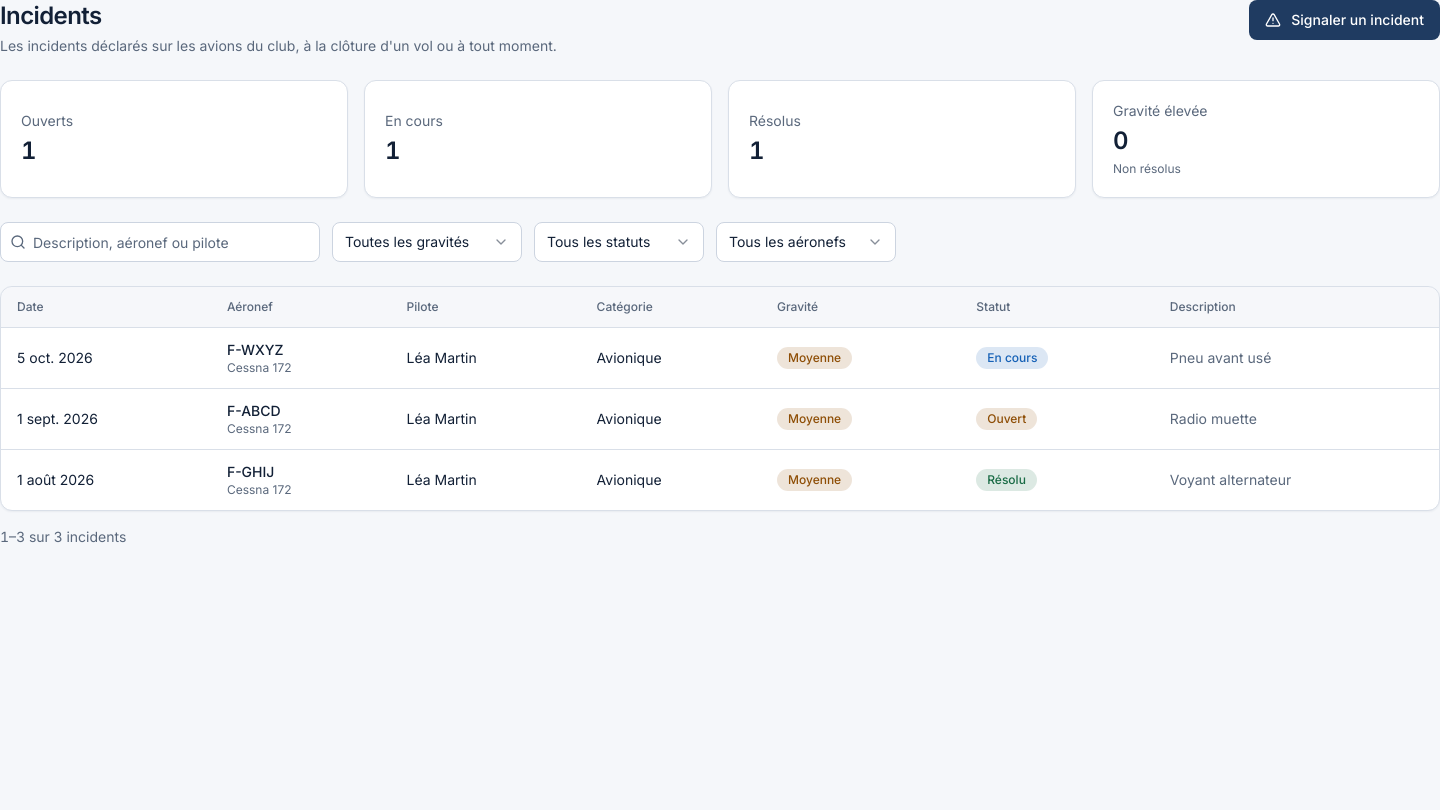
Test case: Incidents de la flotte › montre à un pilote tous les incidents, le plus récent en premier, sans action de suivi
Expected: the heading "Incidents" is shown, [0, 1, 102, 30]
Expected: the text "F-WXYZ" is shown, [227, 340, 284, 358]
Click the row named "Incident du 5 oct. 2026 sur F-WXYZ : voir le détail": (720, 358) [1, 327, 1439, 388]
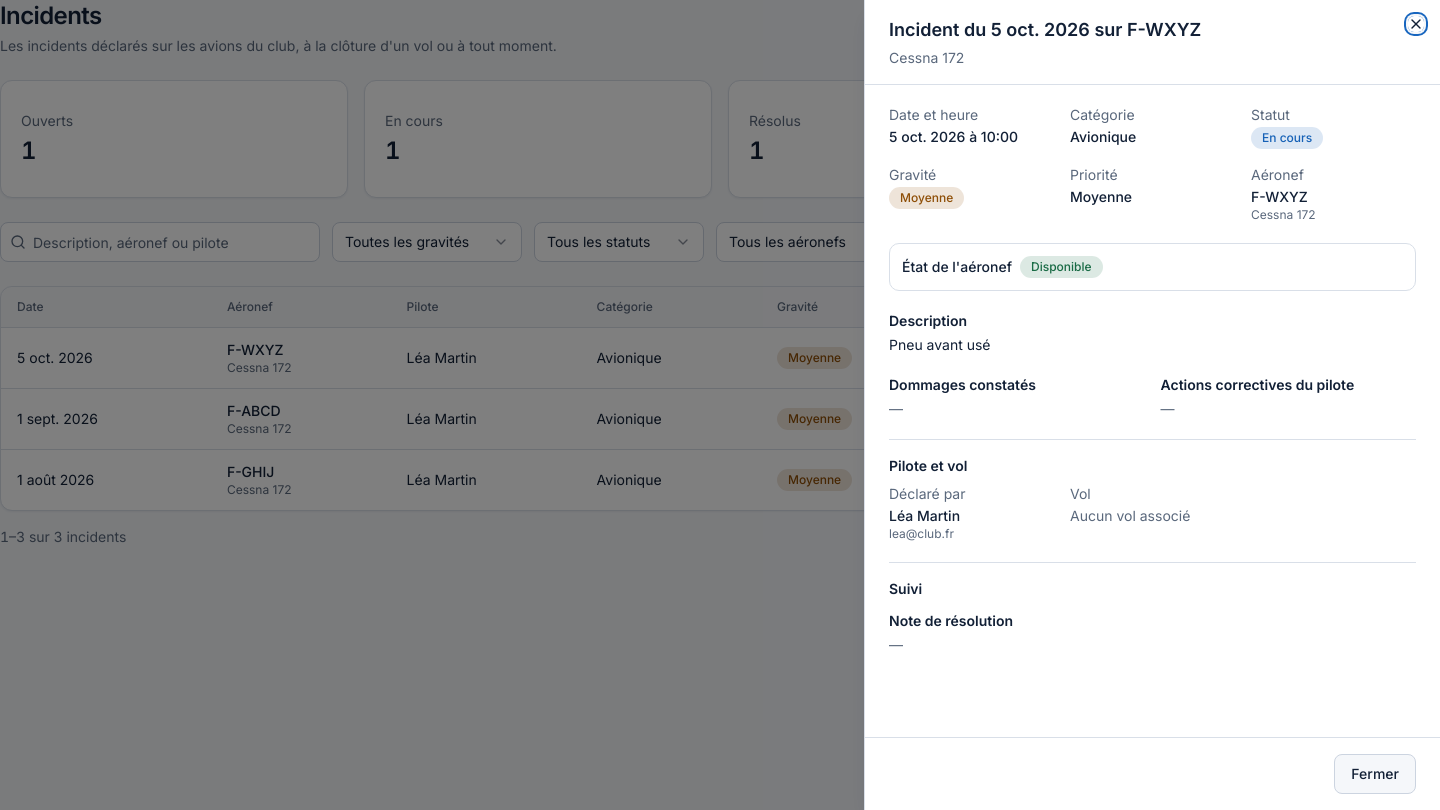
Now the text "Pneu avant usé" is shown, box [889, 336, 990, 353]
